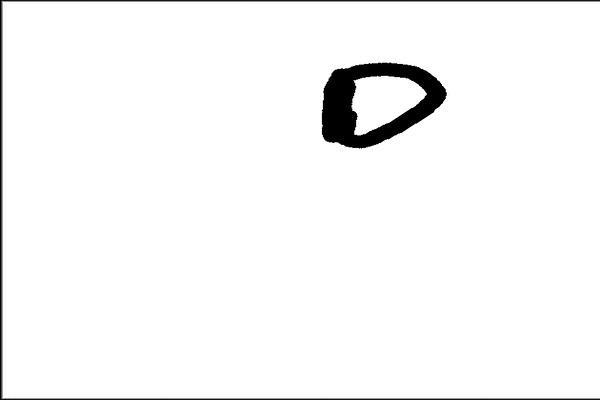D: (316, 54, 452, 152)
